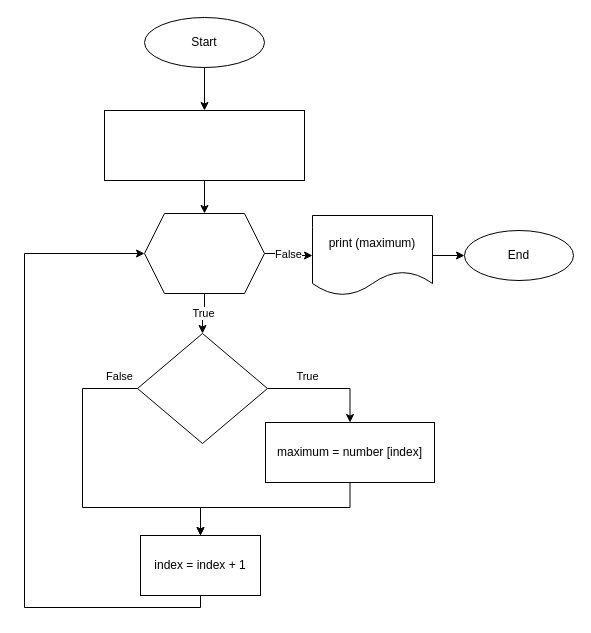
This 591x633 diagram has some shape labels left out. The shapes that lost their labels are listed below. From the top down, each one's centre as x and y in pixels, then its label:
At point 204,145: "Numbers [1, 2, 3] index = 0 size = 3 maximum = numbers [index]".
At point 204,253: "index < size".
At point 202,388: "number [index] > maximum".
